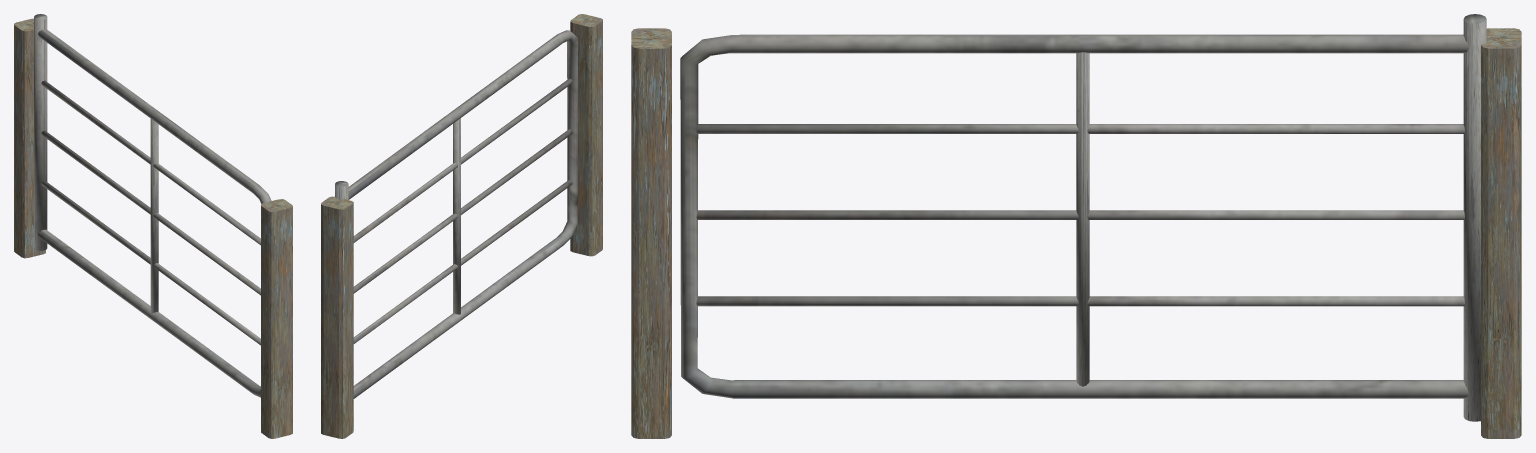
The model's file is FarmGate.fbx.
3 renders of one model, left to right at view 1: azimuth 30°, elevation 25°; view 2: azimuth 150°, elevation 25°; view 3: azimuth 270°, elevation 25°, orthographic. The views are drawn at different scales.
Parts seen in each view (by area): view 1: Gate, Post, Post.001; view 2: Gate, Post.001, Post; view 3: Gate, Post, Post.001.
Part boxes in pixels (bbox=[...]): Gate: bbox=[34, 14, 271, 397]; Post: bbox=[261, 199, 292, 438]; Post.001: bbox=[14, 18, 45, 258]; Gate: bbox=[335, 30, 577, 398]; Post.001: bbox=[321, 196, 353, 438]; Post: bbox=[570, 14, 602, 256]; Gate: bbox=[680, 14, 1486, 421]; Post: bbox=[631, 28, 671, 438]; Post.001: bbox=[1481, 28, 1521, 438].
Size of the model in its own units: 87.15 by 830 by 1622.
